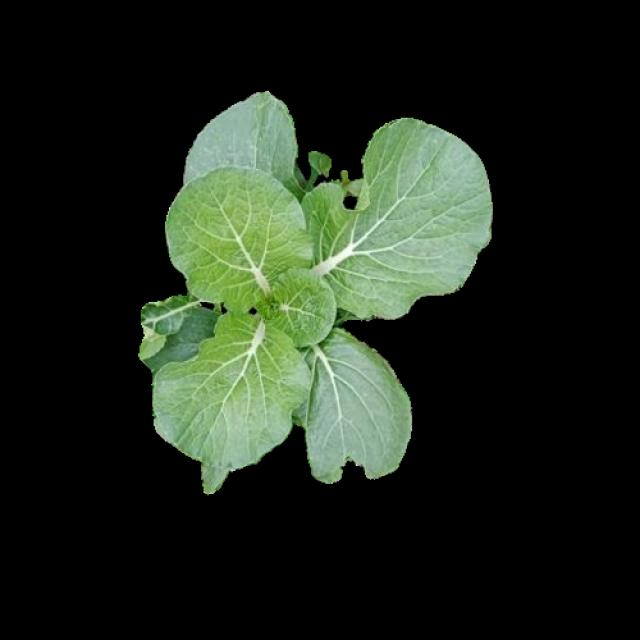mature: (137, 92, 490, 490)
unhealthy: (284, 116, 486, 304), (288, 318, 412, 488), (136, 286, 230, 386)
